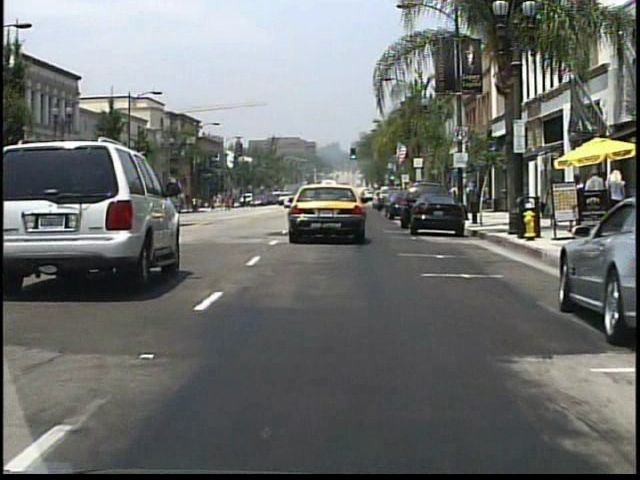person: (582, 167, 608, 227), (606, 168, 628, 227), (567, 170, 586, 227), (241, 193, 248, 209)
